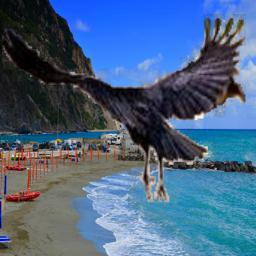Crow: (2, 14, 246, 203)
